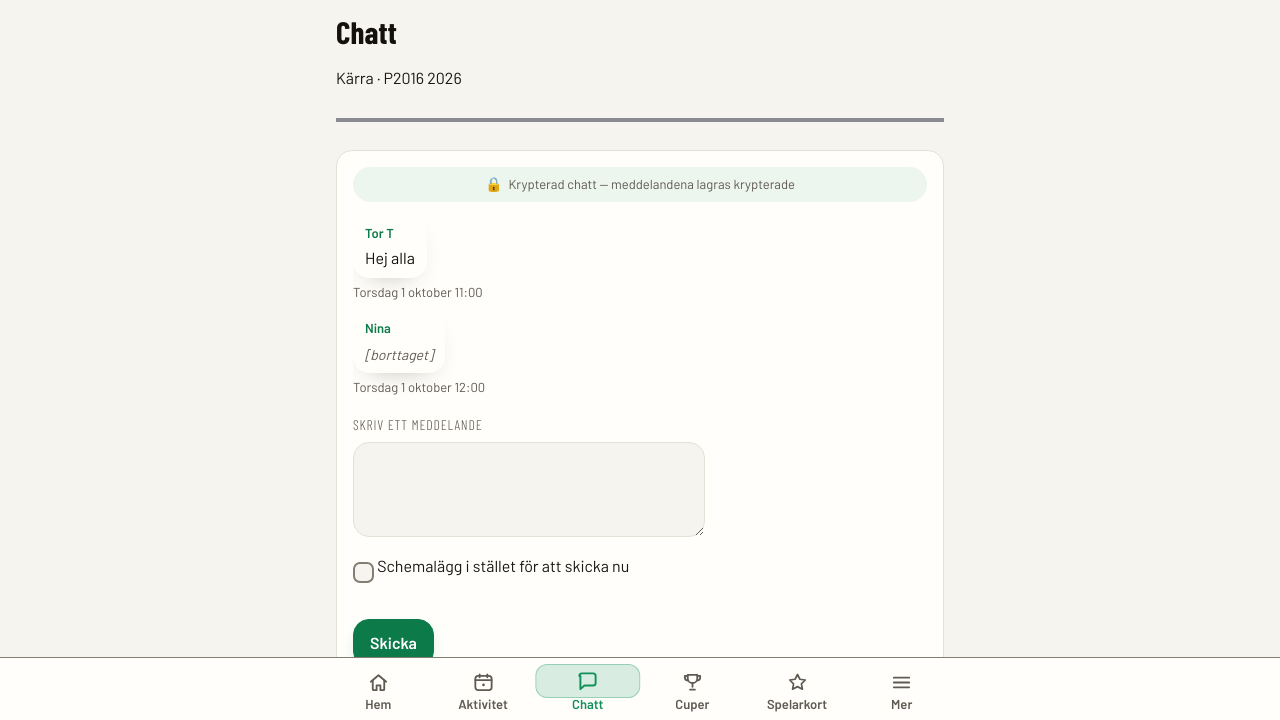
it: trupp-chatt › schemalägg utan tid postar inte — den visar ett fältfel i stället (#388)
The image size is (1280, 720).
In the text box labelled "Skriv ett meddelande": (529, 490) [353, 442, 705, 537], type "Kom ihåg matchen"
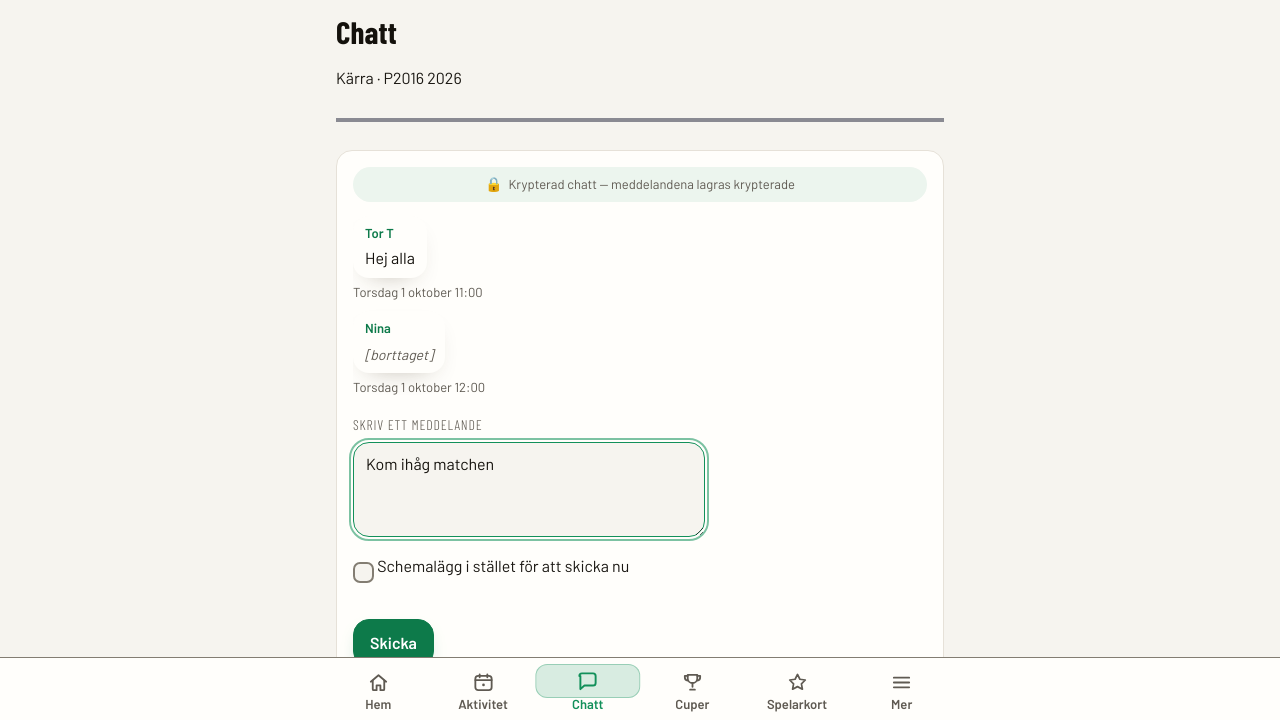
Click the checkbox labelled "Schemalägg i stället för att skicka nu": (364, 572) [353, 562, 374, 583]
(page scrolled)
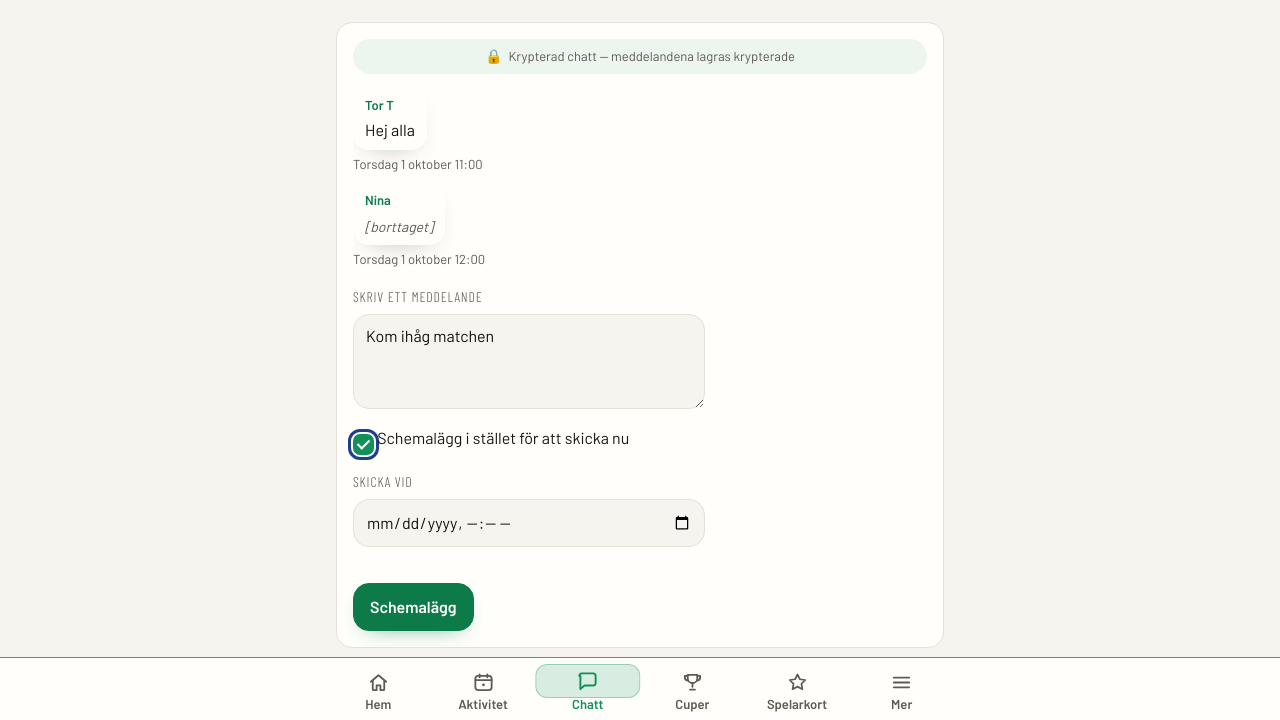
# Tiden lämnas tom med flit.
Click the button "Schemalägg": (413, 607) [353, 583, 474, 631]
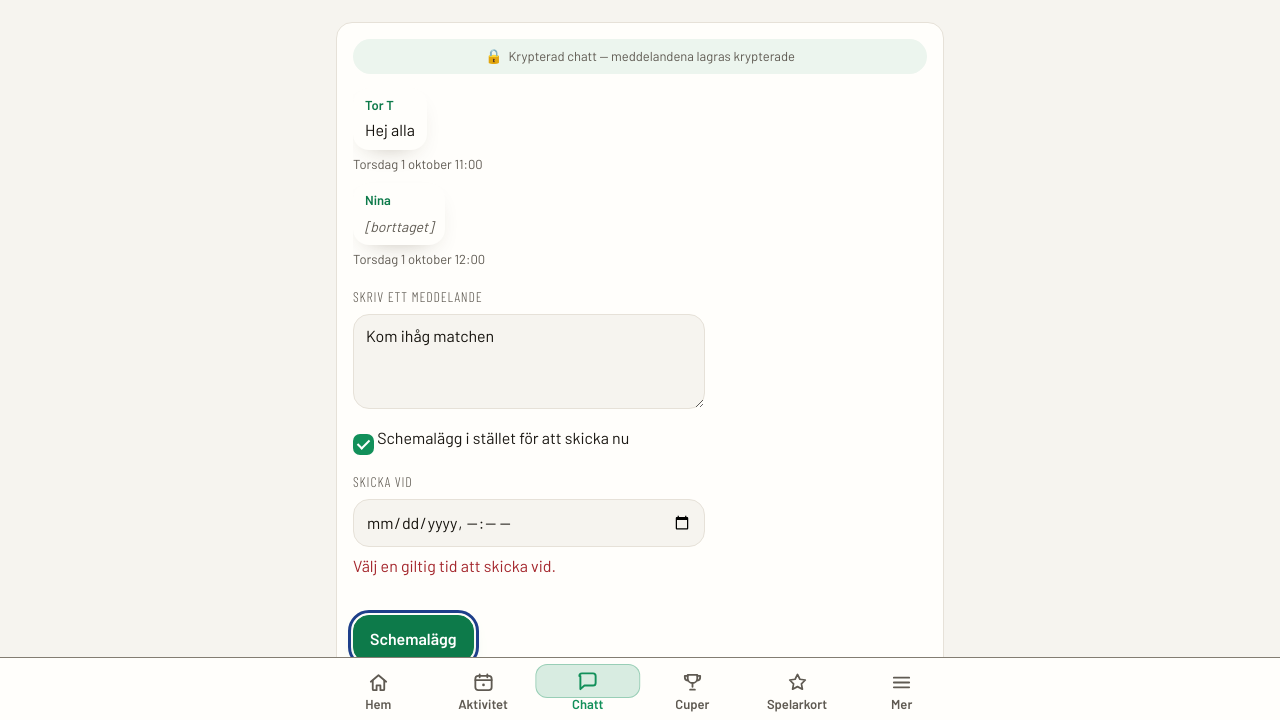
Now the text "Välj en giltig tid att skicka vid." is shown, box [353, 556, 556, 575]
